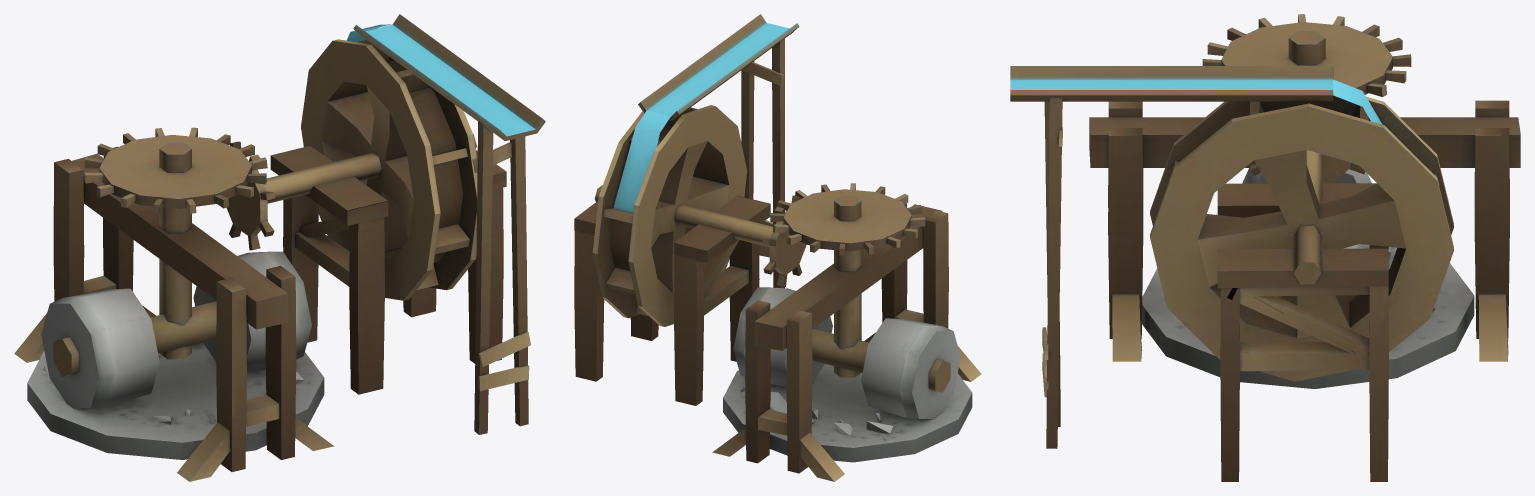
File: stone-crusher.zfix-v14.lod0.glb
3 views of the same model, side by side, from view 1: azimuth 30°, elevation 25°; view 2: azimuth 150°, elevation 25°; view 3: azimuth 270°, elevation 25° (orthographic). The views are drawn at different scales.
Visible parts, largest first — view 1: Object_2; view 2: Object_2; view 3: Object_2.
Boxes of the visible parts, box(x1,y1,x2,y2) form: Object_2: box(14, 14, 545, 481); Object_2: box(574, 14, 981, 481); Object_2: box(1010, 14, 1520, 481).
Size of the model in its own units: 9 by 6.54 by 8.34.
Materials: 1 (1 with a texture image).
